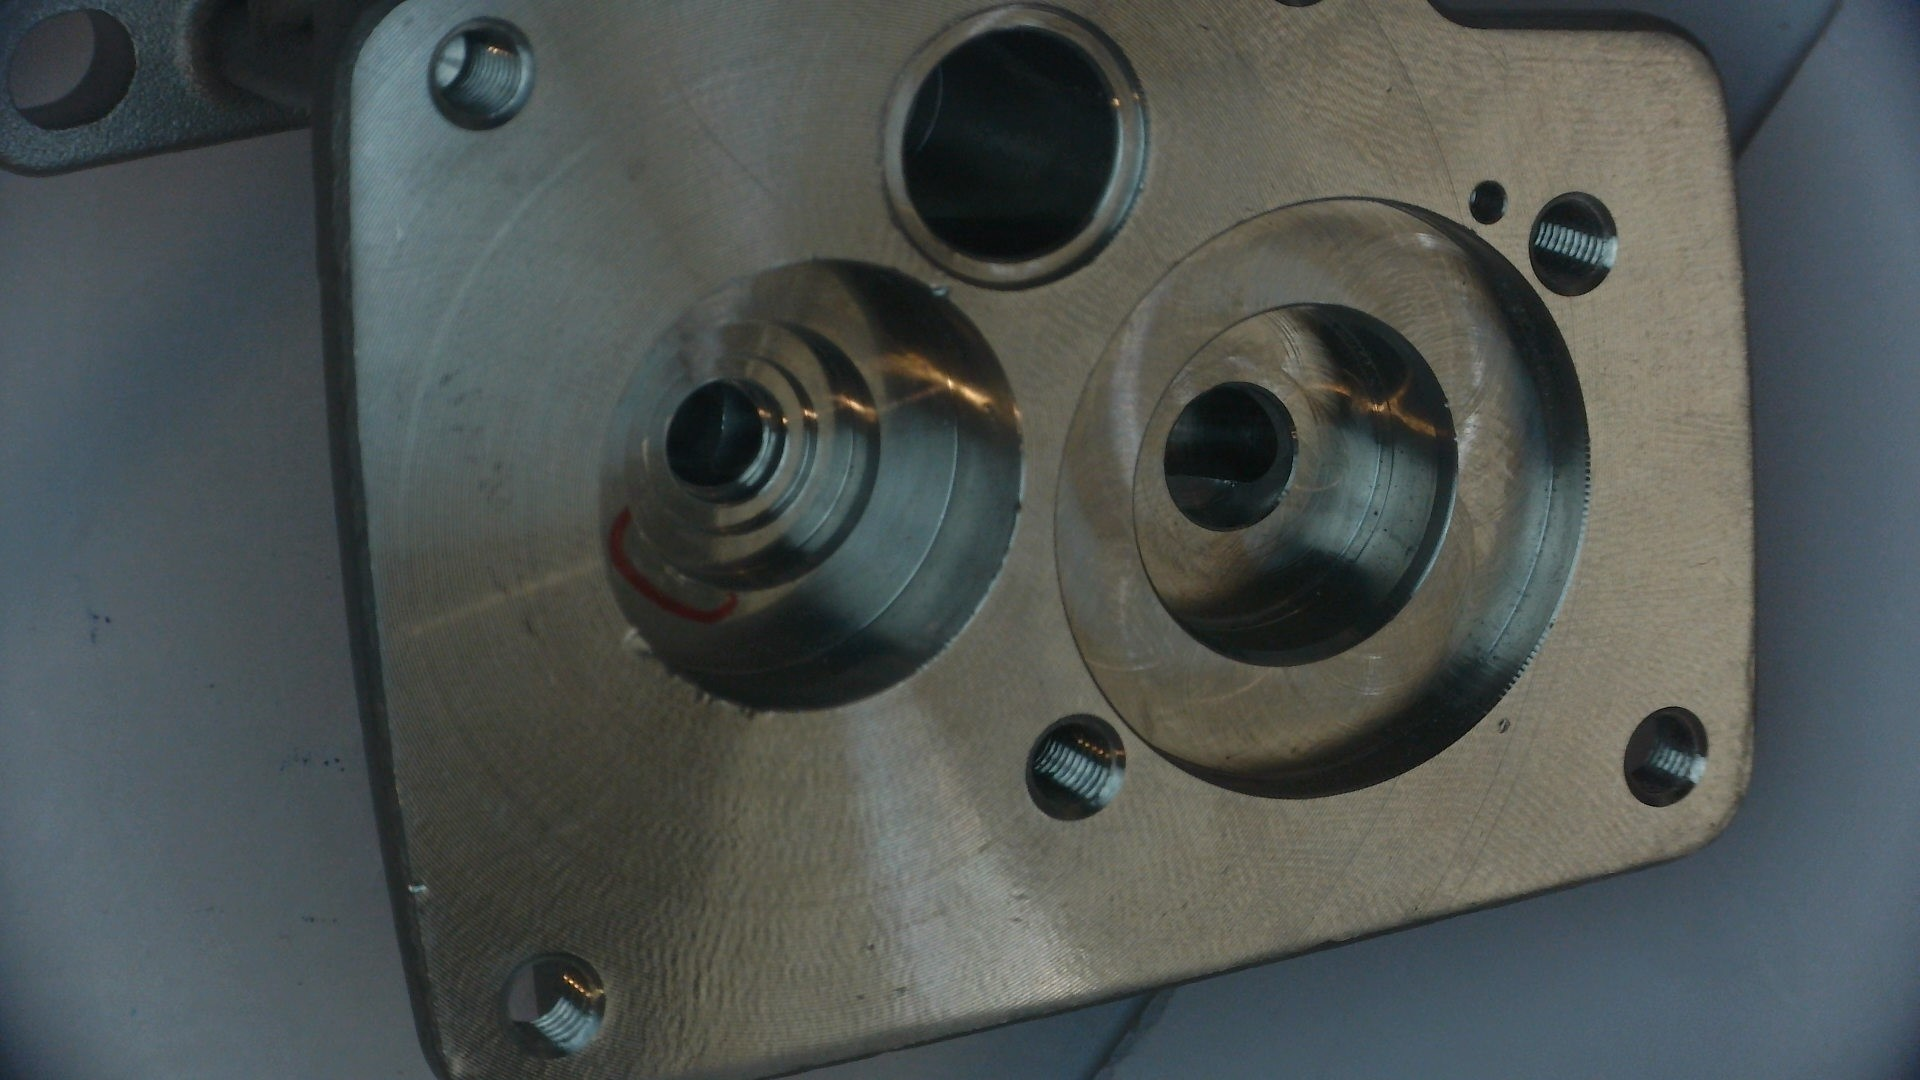dent: (620, 625, 655, 659), (924, 280, 953, 305), (404, 876, 431, 901), (1495, 715, 1513, 736), (1009, 498, 1025, 516), (1129, 88, 1145, 103), (1108, 95, 1122, 109), (1383, 83, 1395, 96), (1199, 21, 1209, 32)
thread_presence: (440, 26, 524, 119), (1031, 719, 1116, 808), (514, 968, 608, 1047), (1530, 196, 1605, 280), (1631, 711, 1696, 794)
